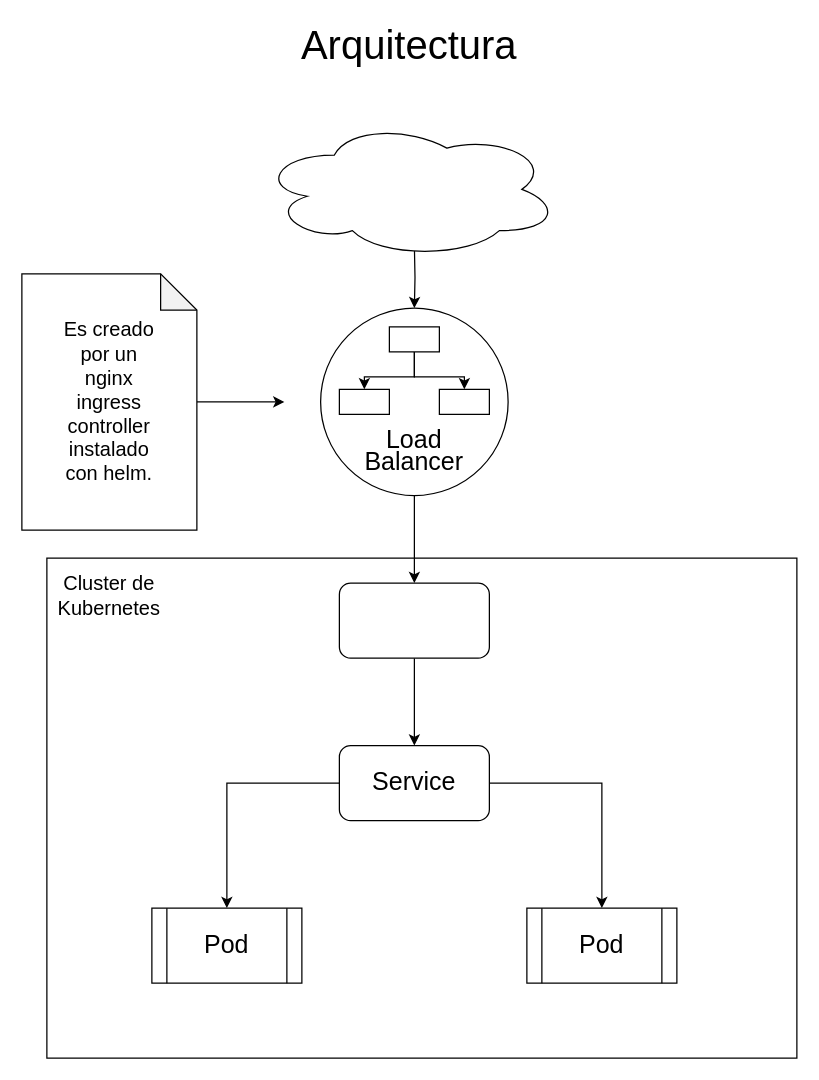
Some shapes in this 819 by 1080 pixel diagram are drawn without their labels. Here are the shapes that lost their labels. From the top down, the centre of each, then its label:
(408,188): Internet
(413,620): Ingress
